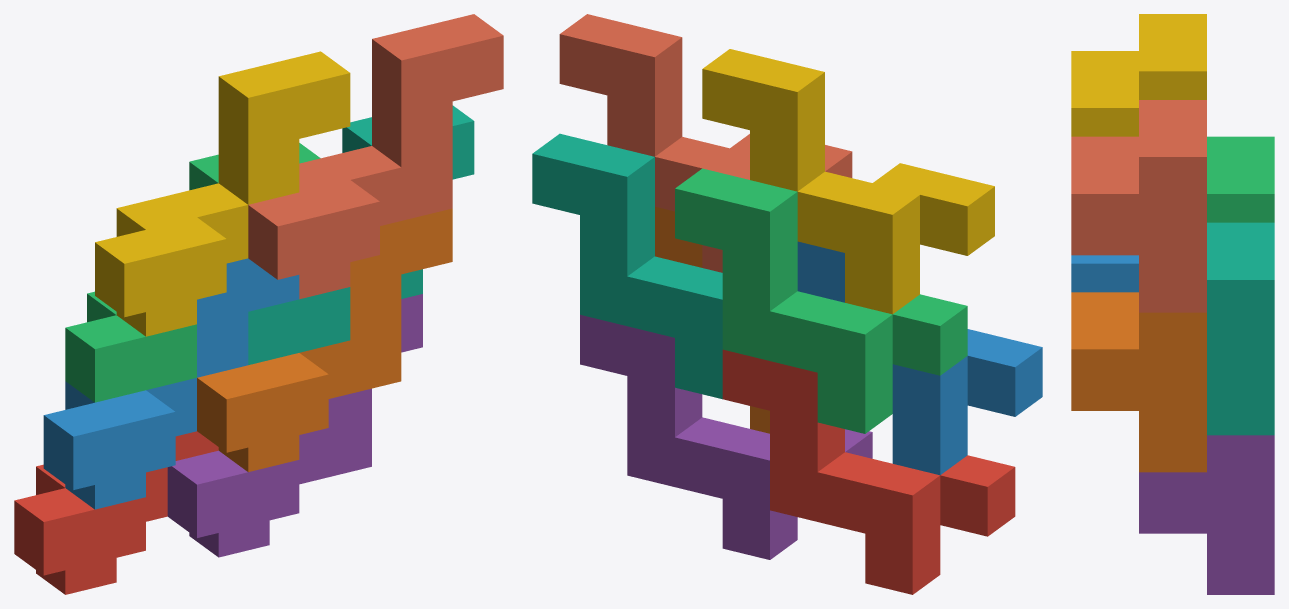
Rendered from tiling.obj.
3 views of the same model, side by side, from view 1: azimuth 30°, elevation 25°; view 2: azimuth 150°, elevation 25°; view 3: azimuth 270°, elevation 25° (orthographic). The views are drawn at different scales.
Parts seen in each view (by area): view 1: copy_1_domain_8, copy_1_domain_4, copy_1_domain_6, copy_1_domain_2, copy_1_domain_5, copy_1_domain_1, copy_1_domain_3, copy_1_domain_7; view 2: copy_1_domain_3, copy_1_domain_4, copy_1_domain_1, copy_1_domain_7, copy_1_domain_5, copy_1_domain_8, copy_1_domain_2, copy_1_domain_6; view 3: copy_1_domain_8, copy_1_domain_6, copy_1_domain_5, copy_1_domain_7, copy_1_domain_4, copy_1_domain_3, copy_1_domain_2.
Boxes of the visible parts, x1=… form: copy_1_domain_8: x1=248, y1=14, x2=503, y2=299; copy_1_domain_4: x1=95, y1=51, x2=350, y2=336; copy_1_domain_6: x1=197, y1=208, x2=452, y2=472; copy_1_domain_2: x1=43, y1=258, x2=299, y2=509; copy_1_domain_5: x1=167, y1=294, x2=422, y2=557; copy_1_domain_1: x1=14, y1=431, x2=218, y2=594; copy_1_domain_3: x1=65, y1=143, x2=320, y2=402; copy_1_domain_7: x1=248, y1=105, x2=474, y2=364; copy_1_domain_3: x1=675, y1=168, x2=967, y2=433; copy_1_domain_4: x1=702, y1=49, x2=994, y2=314; copy_1_domain_1: x1=722, y1=349, x2=1015, y2=594; copy_1_domain_7: x1=532, y1=133, x2=722, y2=399; copy_1_domain_5: x1=580, y1=314, x2=872, y2=559; copy_1_domain_8: x1=559, y1=14, x2=852, y2=272; copy_1_domain_2: x1=797, y1=241, x2=1042, y2=475; copy_1_domain_6: x1=655, y1=206, x2=769, y2=433; copy_1_domain_8: x1=1071, y1=100, x2=1206, y2=312; copy_1_domain_6: x1=1071, y1=292, x2=1206, y2=472; copy_1_domain_5: x1=1139, y1=435, x2=1274, y2=594; copy_1_domain_7: x1=1207, y1=222, x2=1274, y2=435; copy_1_domain_4: x1=1071, y1=14, x2=1206, y2=136; copy_1_domain_3: x1=1207, y1=136, x2=1274, y2=222; copy_1_domain_2: x1=1071, y1=255, x2=1138, y2=292.
Size of the model in its own units: 9 by 9 by 3.
